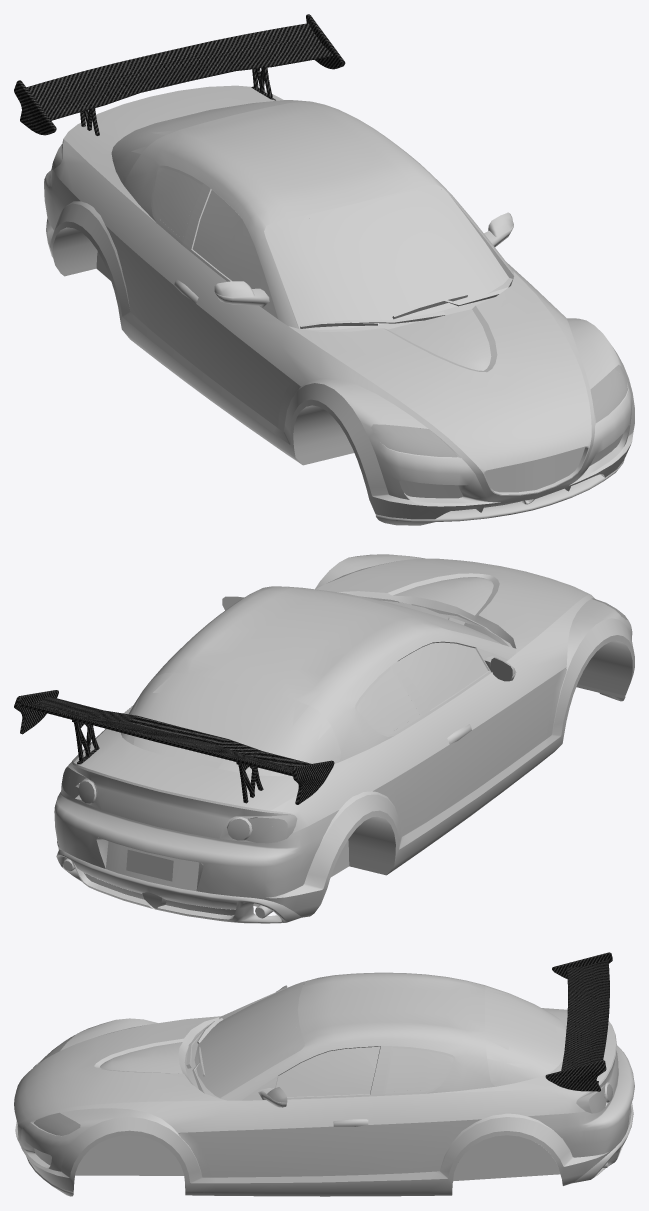
The model's file is R8car.fbx.
3 views of the same model, one above another, from view 1: azimuth 30°, elevation 25°; view 2: azimuth 150°, elevation 25°; view 3: azimuth 270°, elevation 25° (orthographic). The views are drawn at different scales.
Parts seen in each view (by area): view 1: R8_car, shopoilar, light_glass1; view 2: R8_car, shopoilar, light_glass1; view 3: R8_car, shopoilar, light_glass1.
Part boxes in pixels (left/top/right/bottom): R8_car: left=44, top=85, right=634, bottom=525; shopoilar: left=14, top=14, right=345, bottom=135; light_glass1: left=51, top=144, right=627, bottom=457; R8_car: left=54, top=554, right=634, bottom=923; shopoilar: left=14, top=690, right=334, bottom=804; light_glass1: left=61, top=556, right=627, bottom=843; R8_car: left=14, top=972, right=634, bottom=1196; shopoilar: left=545, top=952, right=612, bottom=1091; light_glass1: left=33, top=1033, right=612, bottom=1135.
Bounding box in the file's own units: 527 × 334 × 1212.
